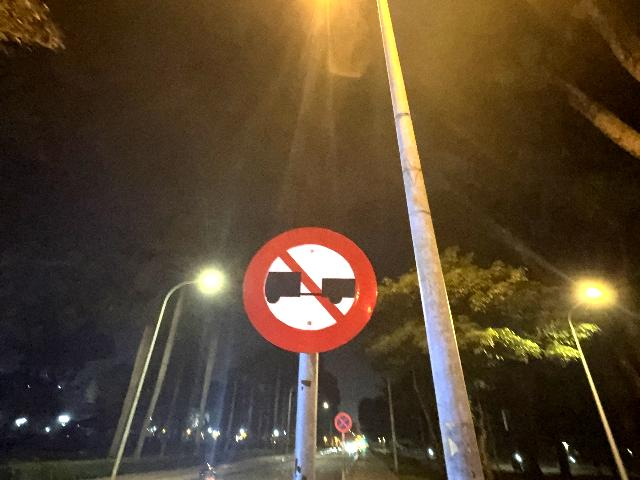cam-xe-somi-romooc: (243, 226, 378, 356)
